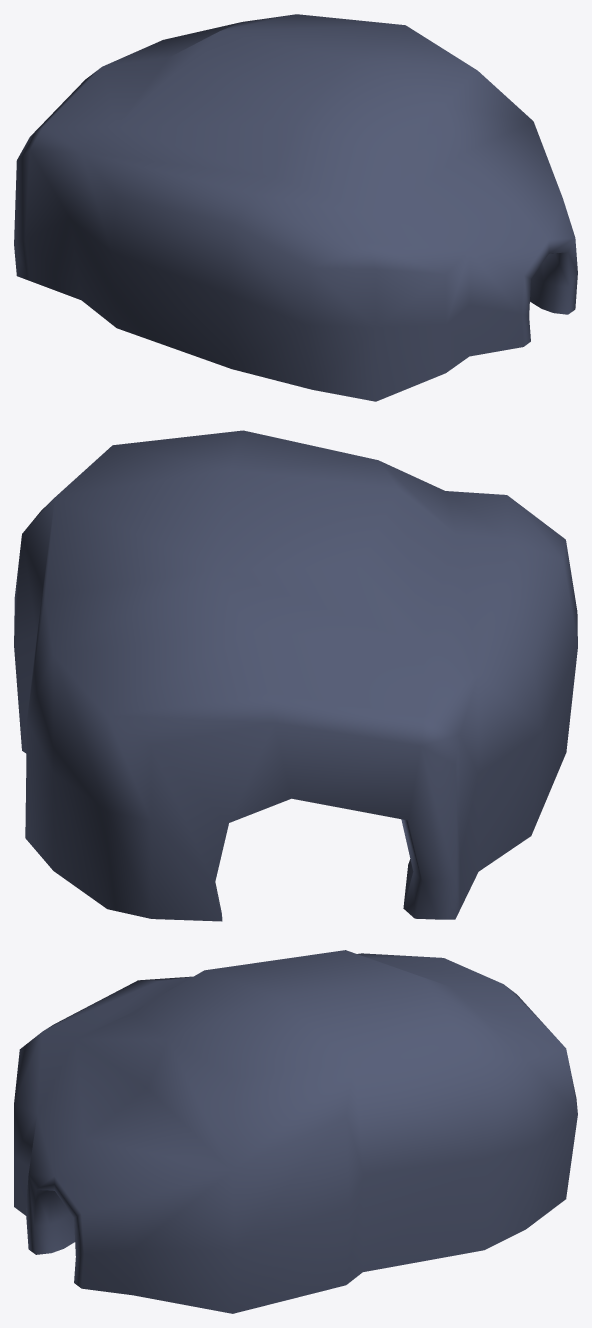
The model's file is Cave.fbx.
3 views of the same model, one above another, from view 1: azimuth 30°, elevation 25°; view 2: azimuth 150°, elevation 25°; view 3: azimuth 270°, elevation 25° (orthographic). The views are drawn at different scales.
Parts seen in each view (by area): view 1: Cave; view 2: Cave; view 3: Cave.
Part boxes in pixels (x1=…): Cave: x1=14, y1=14, x2=577, y2=401; Cave: x1=14, y1=430, x2=577, y2=921; Cave: x1=14, y1=950, x2=577, y2=1313.
Bounding box in the file's own units: 36.15 × 18.29 × 39.19.
